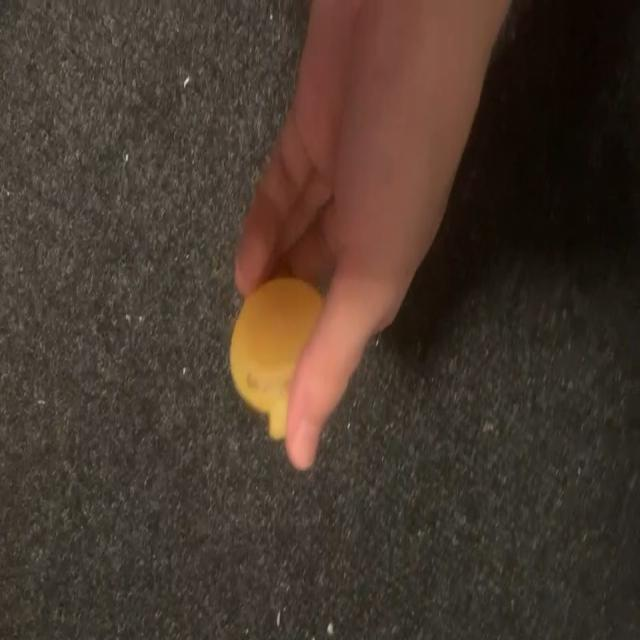rubber-duck: (229, 277, 321, 438)
